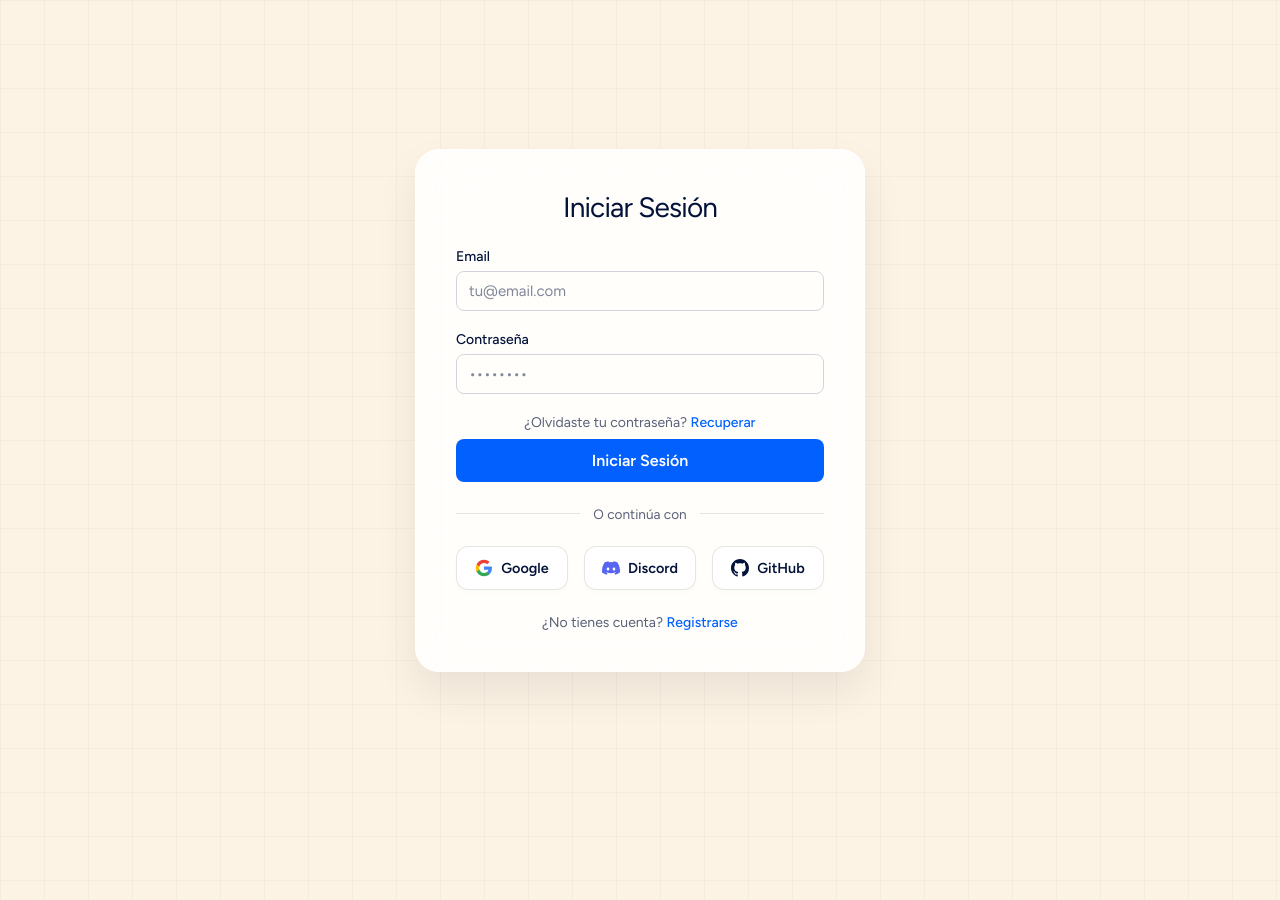
LoginForm › a suspended account › sees how its appeal went instead of the form
Type "fede@example.com" into the field labelled "Email" at (640, 290), box [456,270,824,310]
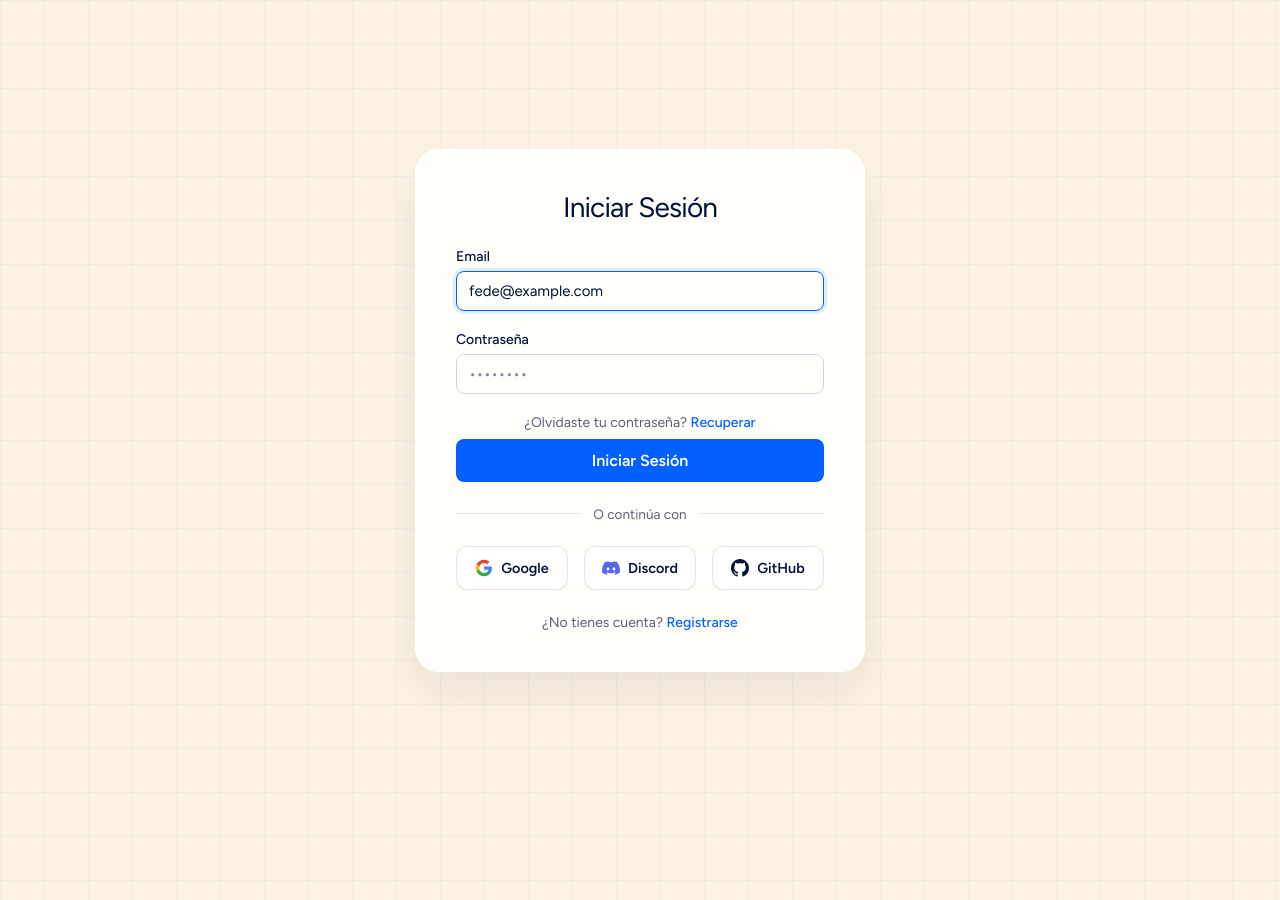
Type "segura" into the password field labelled "Contraseña" at (640, 374), box [456,354,824,394]
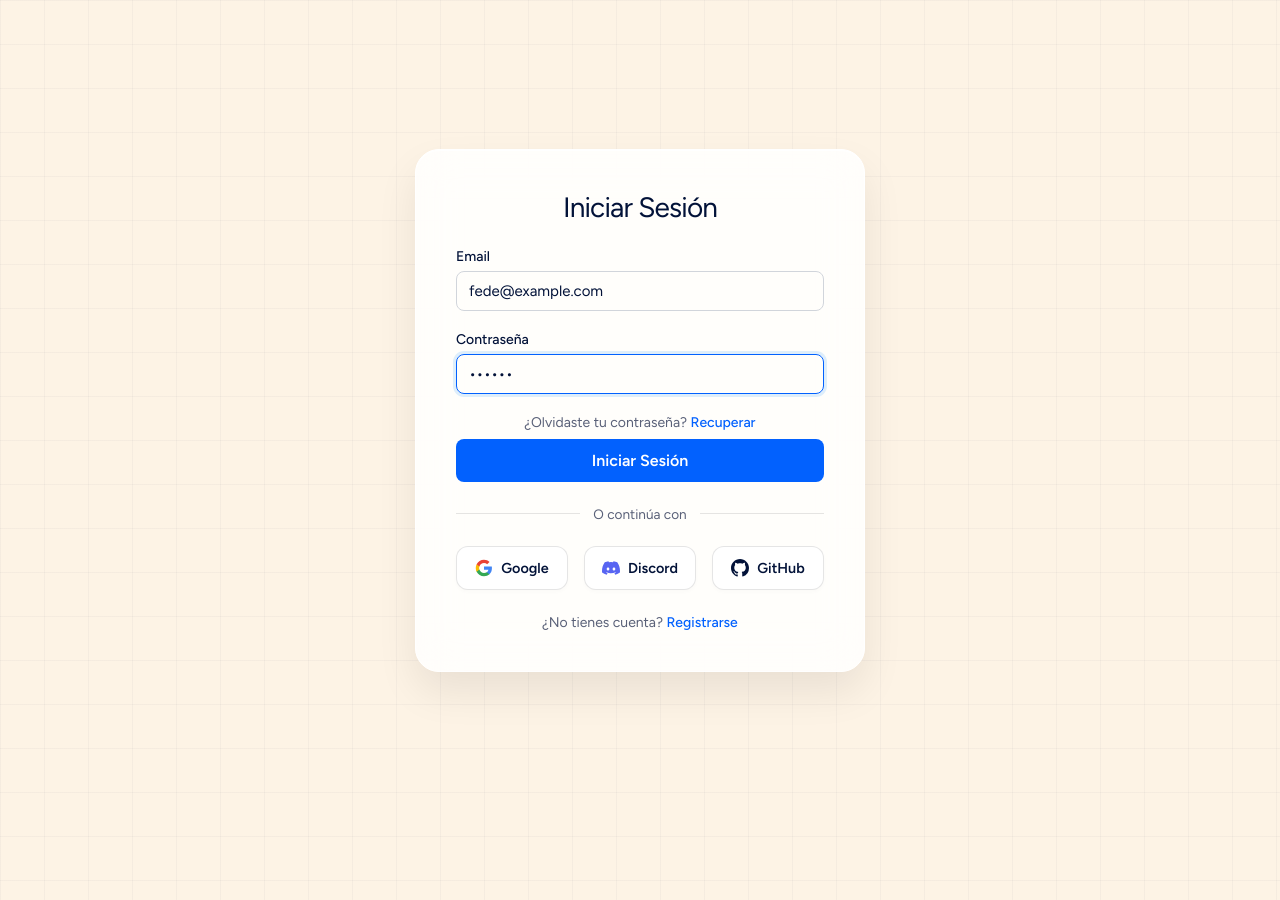
Click the button "Iniciar Sesión" at (640, 460), box [456,438,824,482]
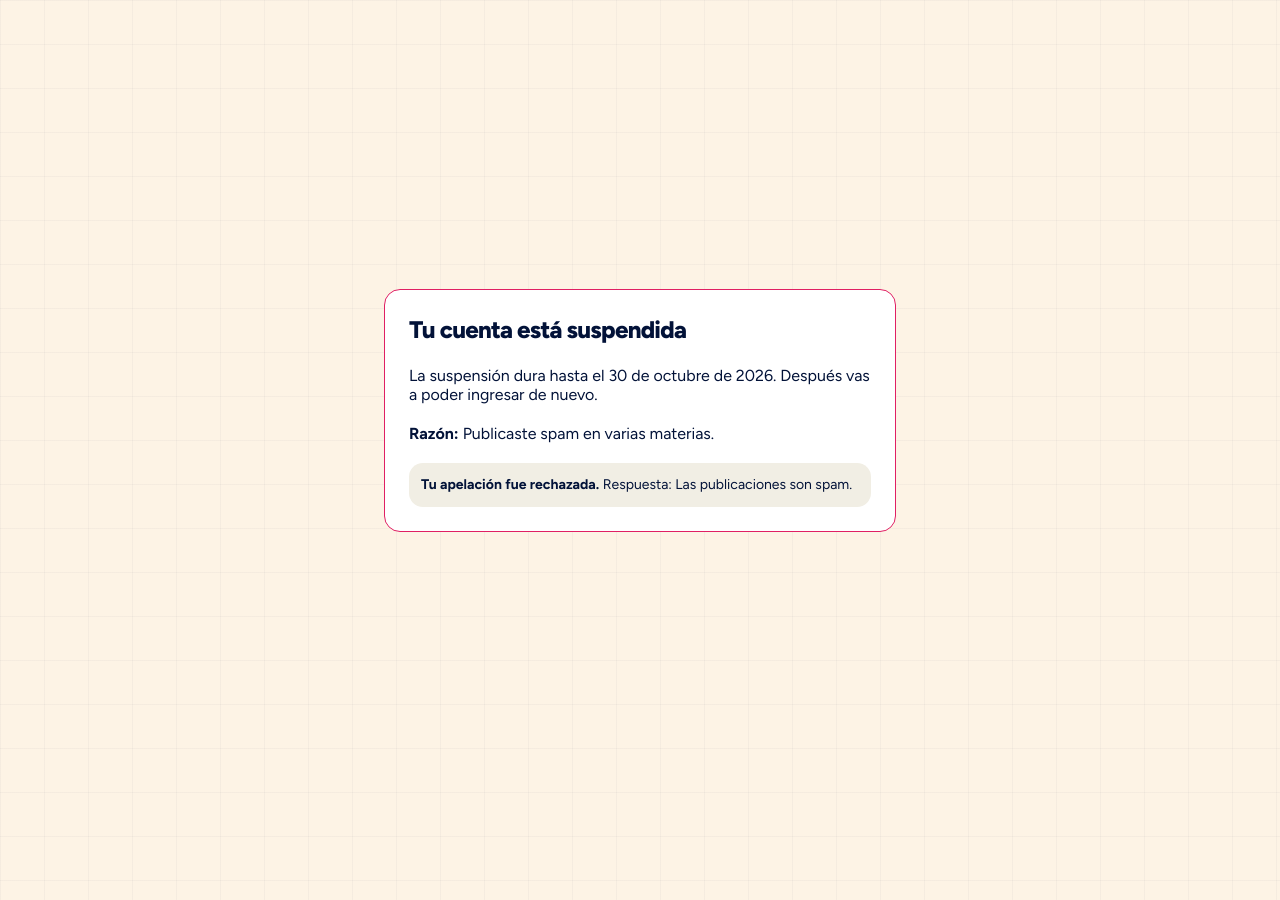
Now the text "Tu apelación fue rechazada." is shown, box [421,476,599,492]
Now the text "Las publicaciones son spam." is shown, box [675,476,852,492]
